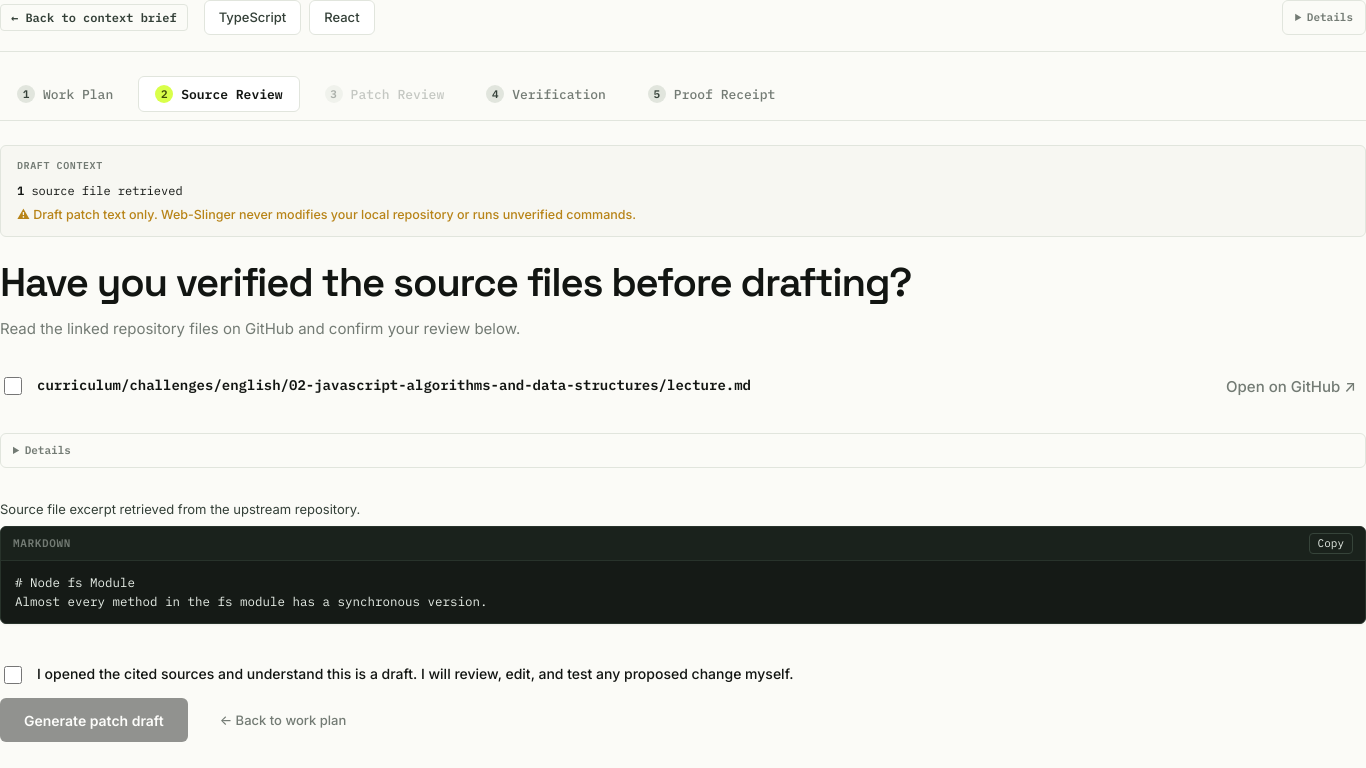
Test: WorkbenchCanvas Component & Flow › renders Step 3: Patch Review with persistent notice, editable diff, and zero forbidden buttons
The width and height of the screenshot is (1366, 768).
Expected: the heading "Have you verified the source files before drafting?" is shown, [0, 257, 911, 308]
Click the checkbox labelled "curriculum/challenges/english" at (13, 386), box [4, 377, 22, 395]
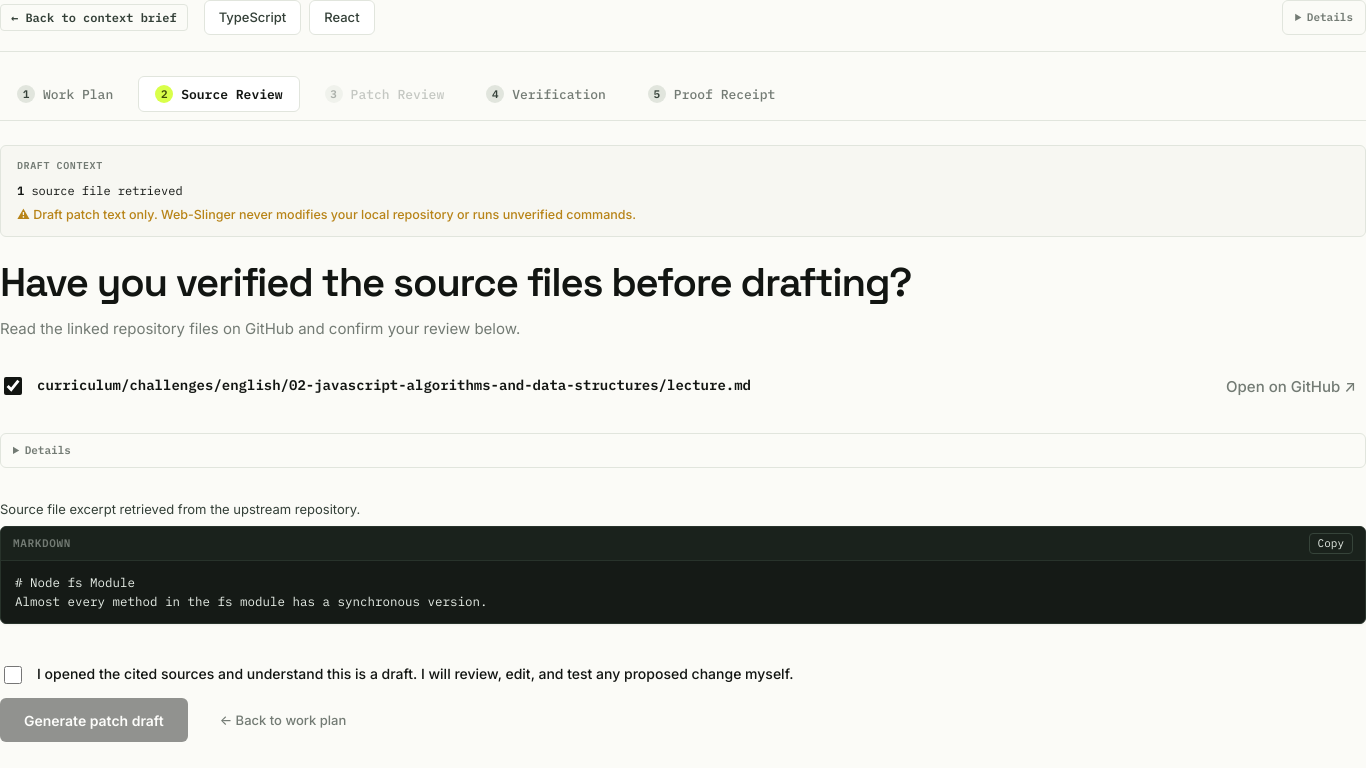
Click the checkbox named "I opened the cited sources and understand this is a draft. I will review, edit, and test any proposed change myself." at (13, 675), box [4, 666, 22, 684]
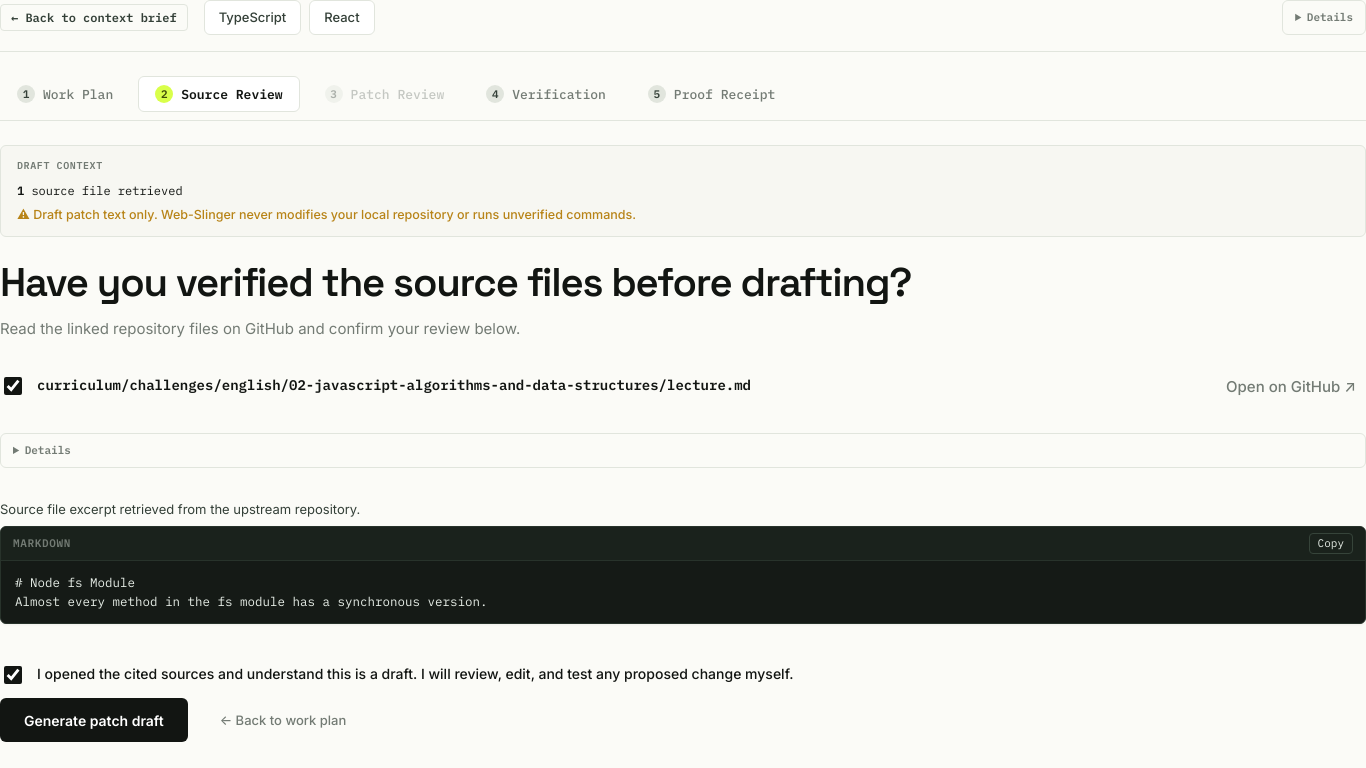
Click the button "Generate patch draft" at (94, 720), box [0, 698, 188, 742]
(page scrolled)
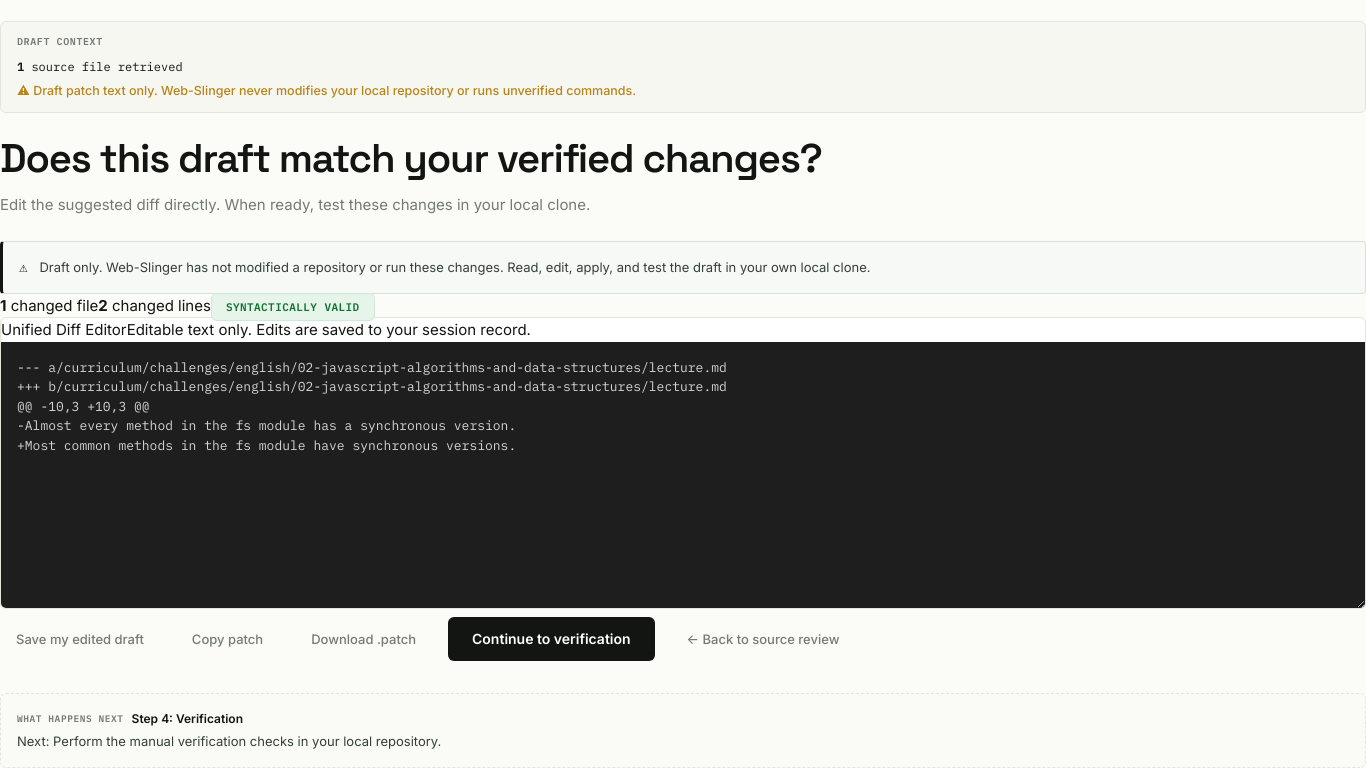
Expected: the text "Draft only. Web-Slinger has not modified a repository or run these changes." is shown, [39, 259, 870, 275]
Expected: the text "1 changed file" is shown, [0, 296, 98, 315]
Expected: the text "2 changed lines" is shown, [98, 296, 211, 315]
